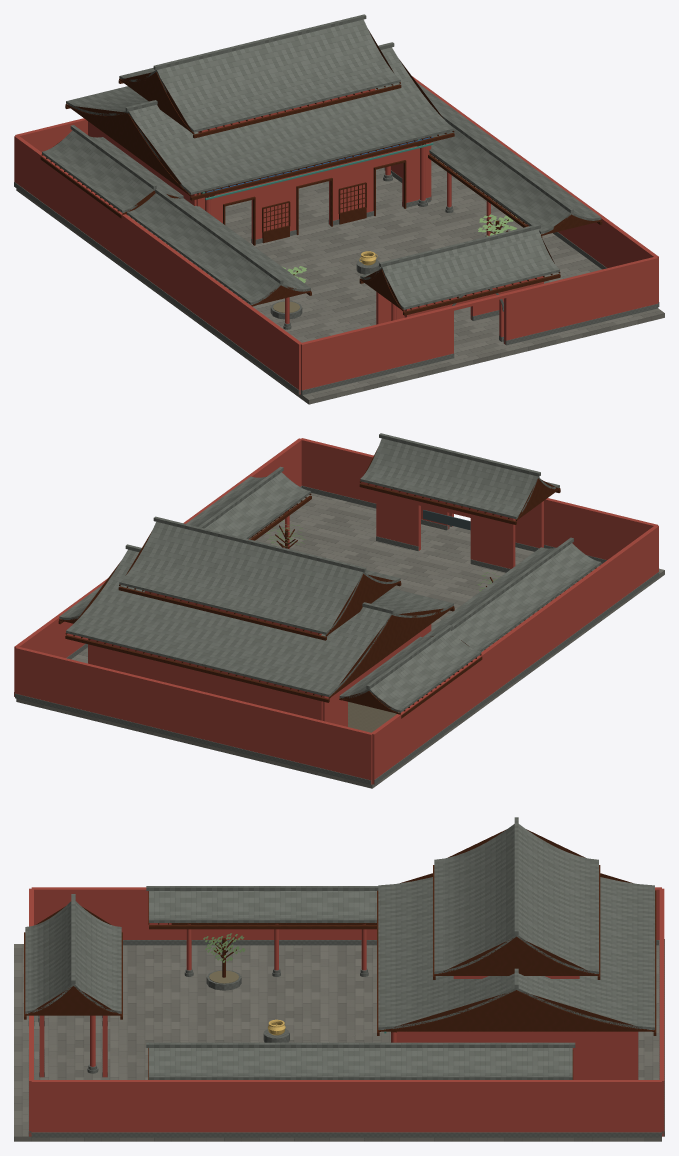
The model's file is zhengyi.glb.
3 renders of one model, top to bottom at view 1: azimuth 30°, elevation 25°; view 2: azimuth 150°, elevation 25°; view 3: azimuth 270°, elevation 25°, orthographic. The views are drawn at different scales.
Visible parts, largest first — view 1: zhengyi_tile, zhengyi_red, zhengyi_paving, zhengyi_wood, zhengyi_stone, zhengyi_teal, zhengyi_leaf; view 2: zhengyi_tile, zhengyi_red, zhengyi_paving, zhengyi_wood, zhengyi_stone, zhengyi_plaster; view 3: zhengyi_tile, zhengyi_red, zhengyi_paving, zhengyi_wood, zhengyi_stone, zhengyi_leaf.
Boxes of the visible parts, x1,y1,x2,y2 form: zhengyi_tile: [42, 14, 601, 309]; zhengyi_red: [14, 76, 658, 394]; zhengyi_paving: [16, 155, 664, 404]; zhengyi_wood: [40, 29, 602, 315]; zhengyi_stone: [14, 167, 659, 395]; zhengyi_teal: [201, 137, 433, 200]; zhengyi_leaf: [282, 214, 516, 282]; zhengyi_tile: [59, 433, 601, 712]; zhengyi_red: [14, 438, 658, 784]; zhengyi_paving: [16, 493, 664, 788]; zhengyi_wood: [58, 448, 601, 718]; zhengyi_stone: [14, 485, 659, 784]; zhengyi_plaster: [348, 702, 398, 732]; zhengyi_tile: [25, 817, 654, 1079]; zhengyi_red: [29, 887, 664, 1136]; zhengyi_paving: [14, 944, 661, 1141]; zhengyi_wood: [24, 829, 656, 1079]; zhengyi_stone: [28, 939, 664, 1137]; zhengyi_leaf: [203, 933, 245, 962].
Size of the model in its own units: 26.35 by 10.77 by 37.17.
Materials: 14 (5 with a texture image).
